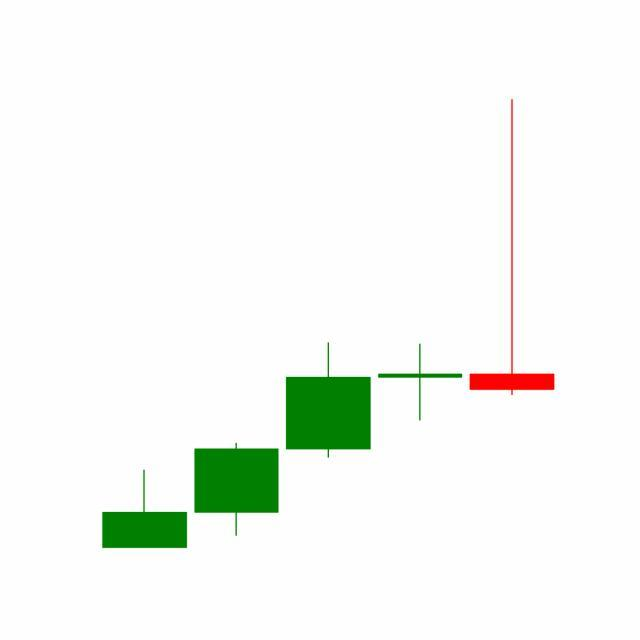Spinning Top: (374, 343, 468, 423)
